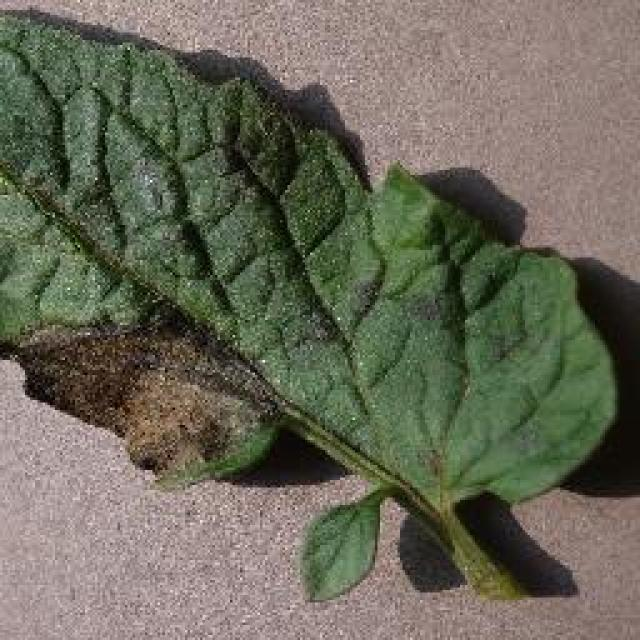Tomato Late Blight: (33, 160, 440, 502)
